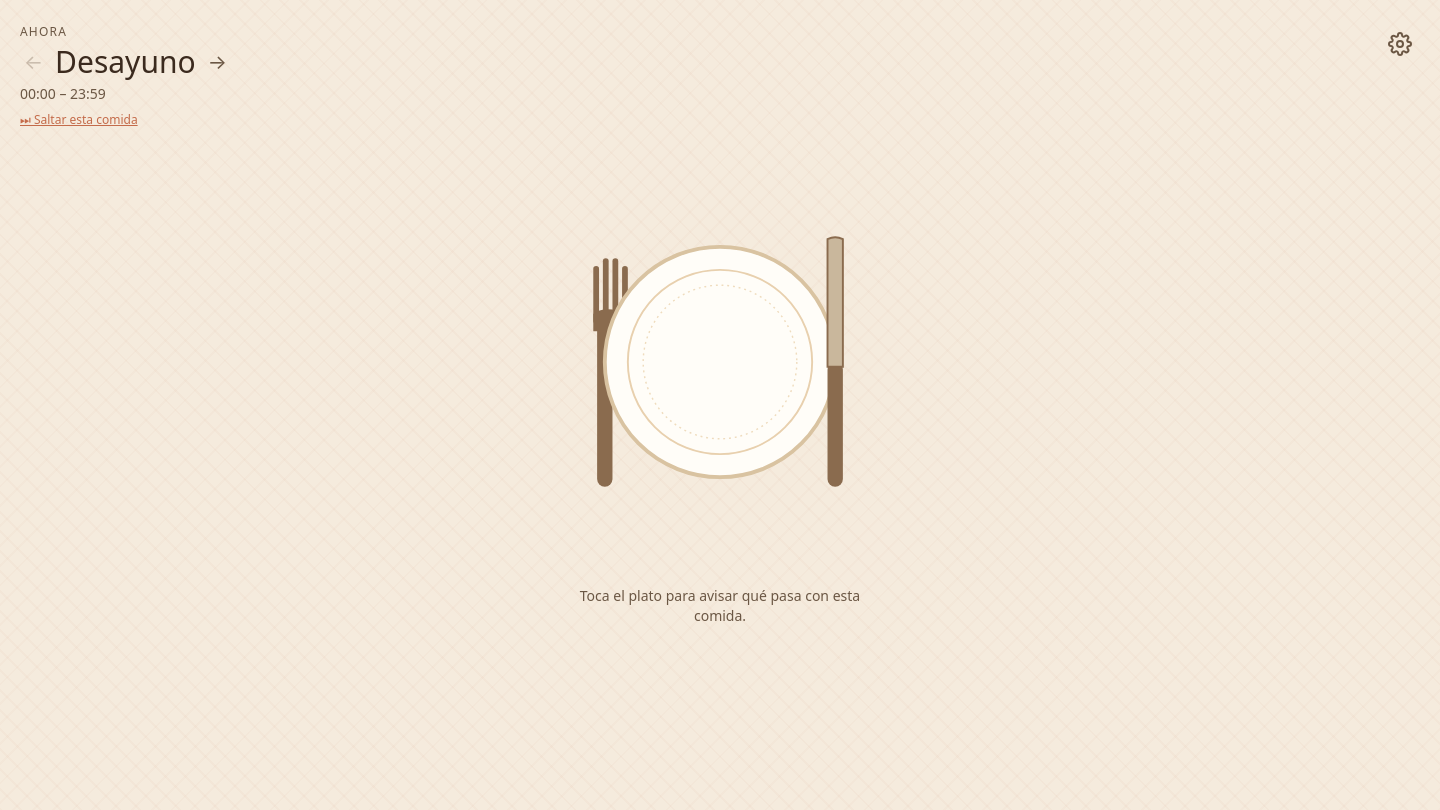
Test case: App — error de envío + reintento + WhatsApp manual › muestra banner con Reintentar y link manual cuando fetch falla
Click the button named "avisar qué pasa".
click(720, 362)  # box [528,170,912,554]
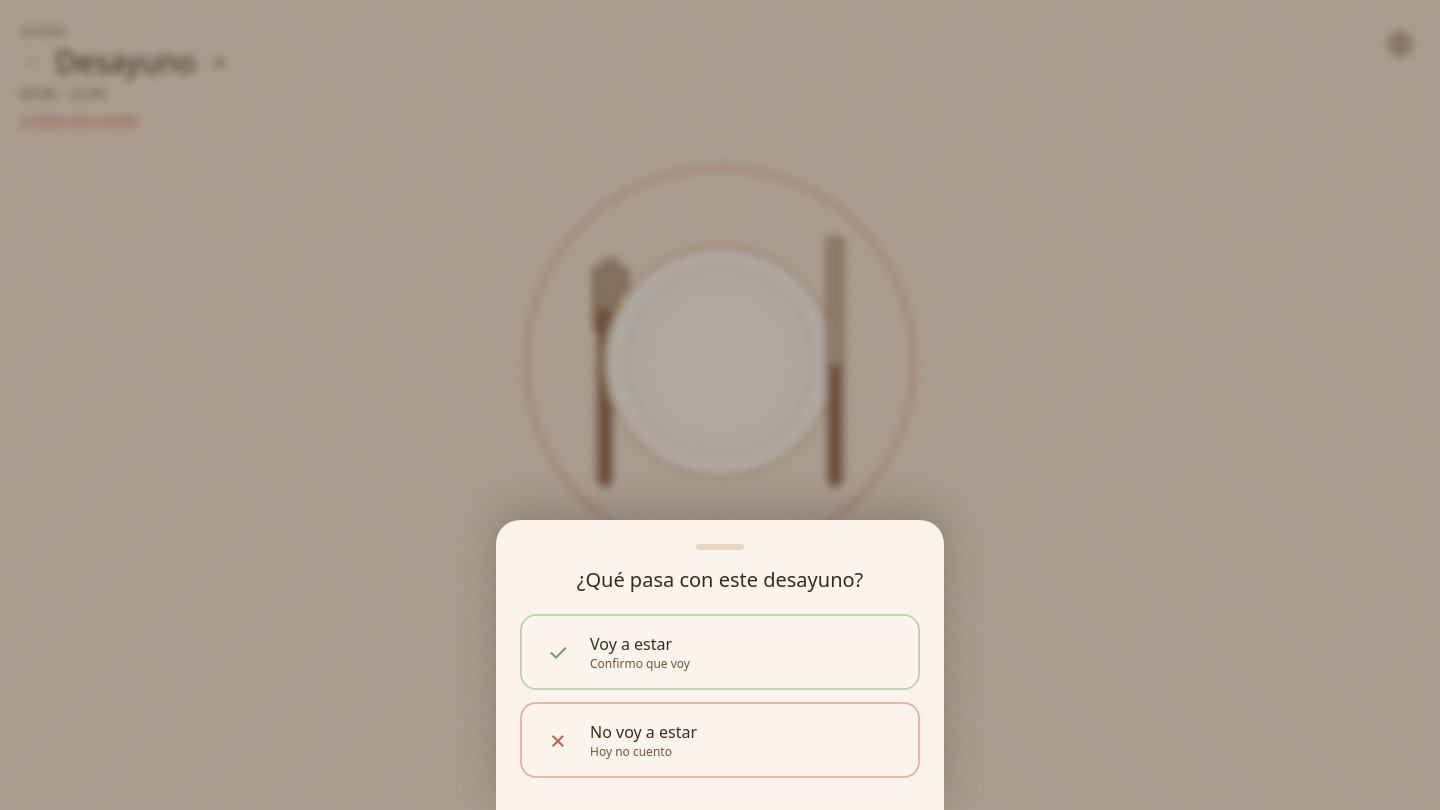
Click the button "✗ No voy a estar Hoy no cuento".
click(644, 732)  # box [520,702,920,778]
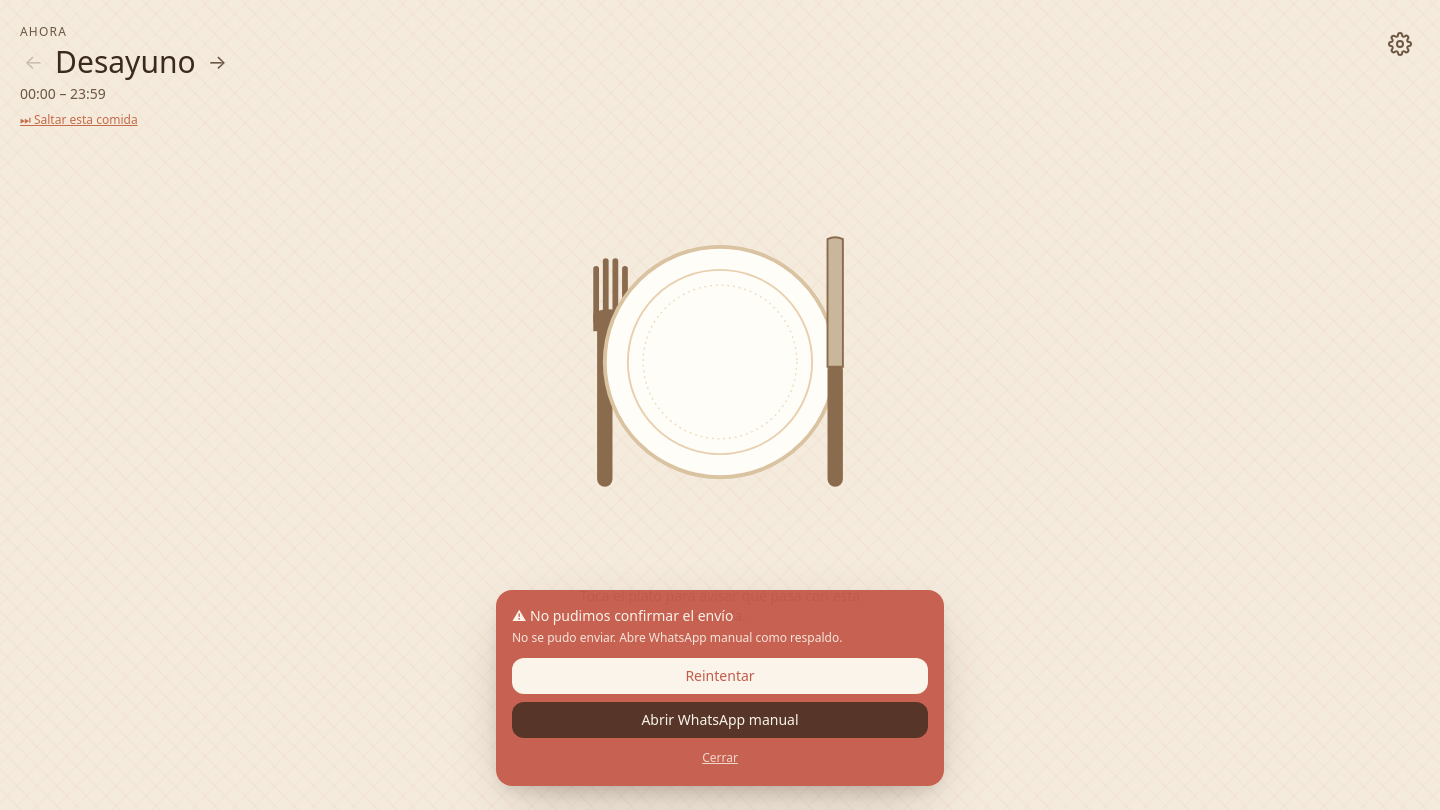
Check: the text "⚠ No pudimos confirmar el envío" is shown, box [512,606,734,625]
Check: the button "Reintentar" is shown, box [512,658,928,694]
